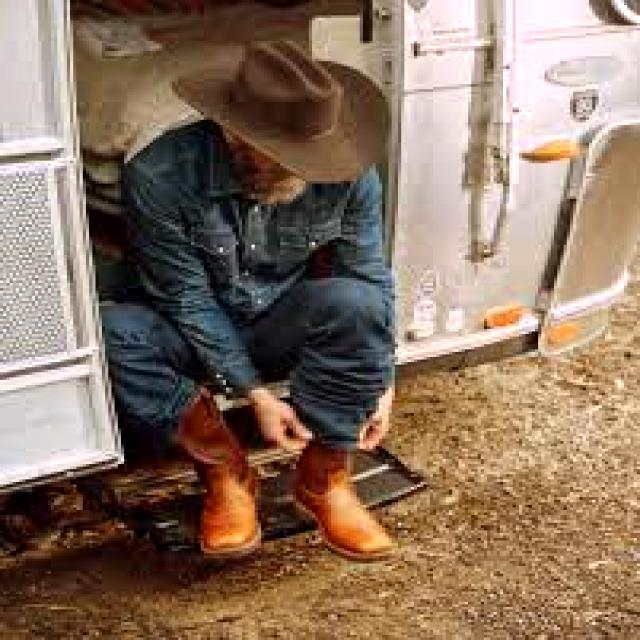foot-wear: (179, 396, 261, 558), (293, 442, 394, 560)
hat: (176, 41, 388, 183)
